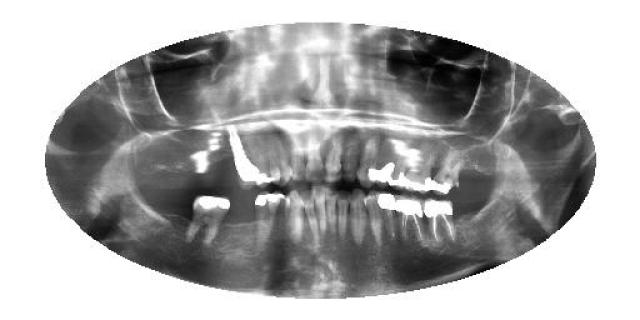Fillings: (185, 195, 229, 246), (254, 190, 285, 252), (364, 188, 396, 244), (405, 141, 435, 191), (432, 149, 462, 196), (358, 136, 378, 188), (389, 139, 406, 190), (379, 133, 395, 185)
Implant: (226, 124, 260, 188), (421, 198, 455, 242), (396, 196, 426, 245)
